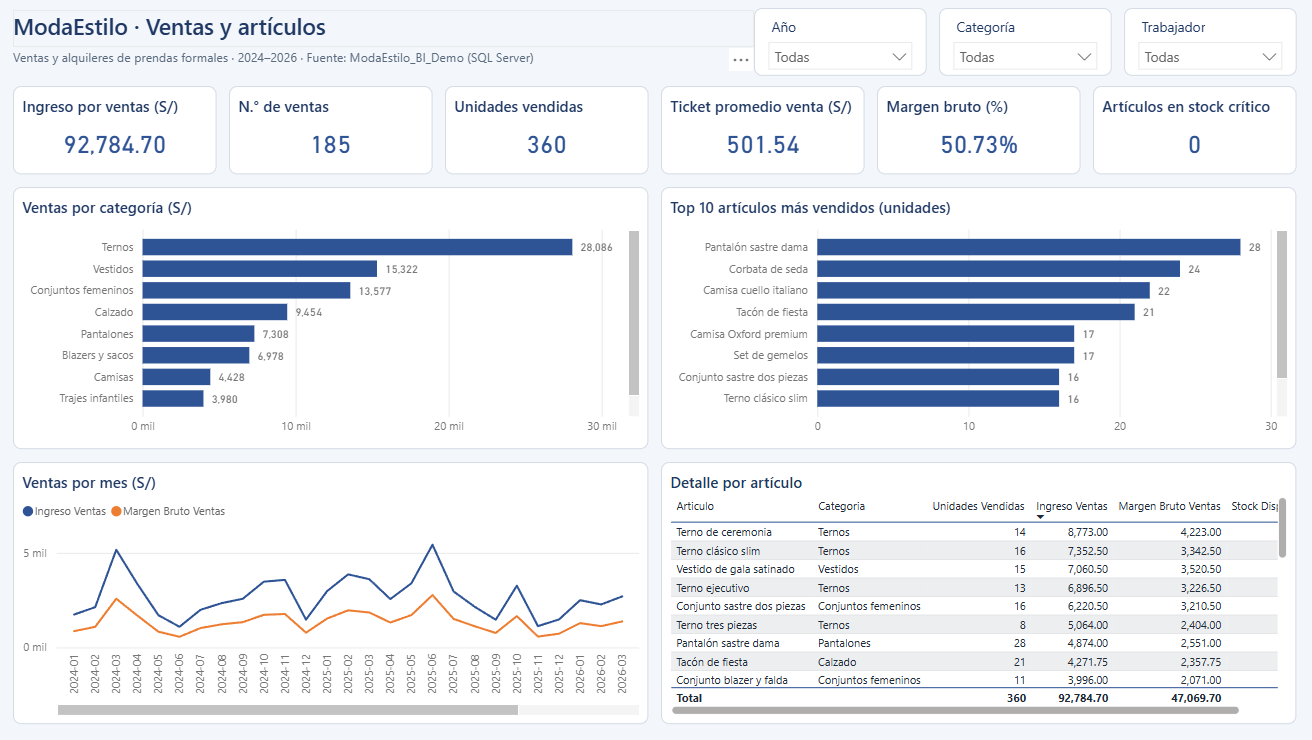

The page's visual inventory and layout, read from the dashboard file:
{"tool":"powerbi","page":{"name":"Ventas y artículos","canvas":[1280,720],"ordinal":1},"visuals":[{"type":"textbox","box":[16,10,720,36],"z":1000},{"type":"textbox","box":[16,46,720,22],"z":2000},{"type":"slicer","fields":{"Values":["DimFecha.Anio"]},"box":[736,8,168,66],"z":3000},{"type":"slicer","fields":{"Values":["DimArticulo.Categoria"]},"box":[916,8,168,66],"z":4000},{"type":"slicer","fields":{"Values":["DimTrabajador.Trabajador"]},"box":[1096,8,168,66],"z":5000},{"type":"card","title":"Ingreso por ventas (S/)","fields":{"Values":["FactVenta.Ingreso Ventas"]},"box":[16,84,198,86],"z":6000},{"type":"card","title":"N.° de ventas","fields":{"Values":["FactVenta.Número de Ventas"]},"box":[226,84,198,86],"z":7000},{"type":"card","title":"Unidades vendidas","fields":{"Values":["FactVenta.Unidades Vendidas"]},"box":[436,84,198,86],"z":8000},{"type":"card","title":"Ticket promedio venta (S/)","fields":{"Values":["FactVenta.Ticket Promedio Venta"]},"box":[646,84,198,86],"z":9000},{"type":"card","title":"Margen bruto (%)","fields":{"Values":["FactVenta.% Margen Bruto"]},"box":[856,84,198,86],"z":10000},{"type":"card","title":"Artículos en stock crítico","fields":{"Values":["DimArticulo.Artículos en Stock Crítico"]},"box":[1066,84,198,86],"z":11000},{"type":"clusteredBarChart","title":"Ventas por categoría (S/)","fields":{"Category":["DimArticulo.Categoria"],"Y":["FactVenta.Ingreso Ventas"]},"box":[16,182,618,255],"z":12000},{"type":"clusteredBarChart","title":"Top 10 artículos más vendidos (unidades)","fields":{"Category":["DimArticulo.Articulo"],"Y":["FactVenta.Unidades Vendidas Top 10"]},"box":[646,182,618,255],"z":13000},{"type":"lineChart","title":"Ventas por mes (S/)","fields":{"Category":["DimFecha.AnioMes"],"Y":["FactVenta.Ingreso Ventas","FactVenta.Margen Bruto Ventas"]},"box":[16,449,618,255],"z":14000},{"type":"tableEx","title":"Detalle por artículo","fields":{"Values":["DimArticulo.Articulo","DimArticulo.Categoria","FactVenta.Unidades Vendidas","FactVenta.Ingreso Ventas","FactVenta.Margen Bruto Ventas","DimArticulo.Stock Disponible"]},"box":[646,449,618,255],"z":15000}]}

Visuals, with their boxes in screenshot pixels (x1, y1, x2, y2), scaled from the page's 1280x720 canvas onto the 1312x740 screenshot:
textbox: BBox(16, 10, 754, 47)
textbox: BBox(16, 47, 754, 70)
slicer - DimFecha.Anio: BBox(754, 8, 927, 76)
slicer - DimArticulo.Categoria: BBox(939, 8, 1111, 76)
slicer - DimTrabajador.Trabajador: BBox(1123, 8, 1296, 76)
"Ingreso por ventas (S/)" card: BBox(16, 86, 219, 175)
"N.° de ventas" card: BBox(232, 86, 435, 175)
"Unidades vendidas" card: BBox(447, 86, 650, 175)
"Ticket promedio venta (S/)" card: BBox(662, 86, 865, 175)
"Margen bruto (%)" card: BBox(877, 86, 1080, 175)
"Artículos en stock crítico" card: BBox(1093, 86, 1296, 175)
"Ventas por categoría (S/)" clusteredBarChart: BBox(16, 187, 650, 449)
"Top 10 artículos más vendidos (unidades)" clusteredBarChart: BBox(662, 187, 1296, 449)
"Ventas por mes (S/)" lineChart: BBox(16, 461, 650, 724)
"Detalle por artículo" tableEx: BBox(662, 461, 1296, 724)
